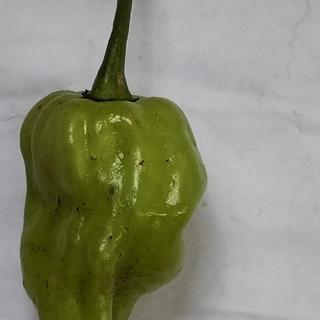Defect: (112, 265, 137, 292)
Fly-bites: (157, 153, 179, 168), (85, 150, 101, 167), (136, 152, 150, 171), (102, 232, 119, 245), (71, 203, 85, 217), (80, 198, 91, 209)
